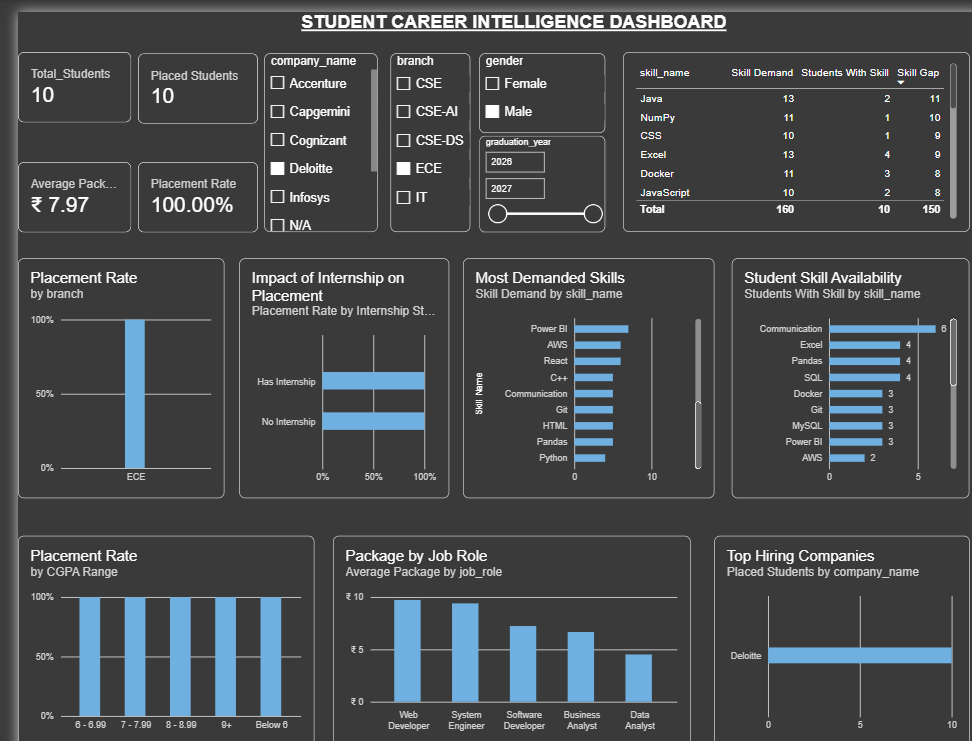

Layout of this report page (visuals, bound fields, positions):
{"tool":"powerbi","page":{"name":"Overview Dashboard","canvas":[1920,1080],"ordinal":0},"visuals":[{"type":"cardVisual","fields":{"Data":["career_intelligence students.Total_Students"]},"box":[0,54,151.1,94.4],"z":0},{"type":"cardVisual","fields":{"Data":["career_intelligence placements.Placed Students"]},"box":[160.2,55.1,160,94.4],"z":1000},{"type":"cardVisual","fields":{"Data":["career_intelligence placements.Placement Rate"]},"box":[160.2,200,160,94],"z":2000},{"type":"cardVisual","fields":{"Data":["career_intelligence placements.Average Package"]},"box":[0,200,151,94],"z":3000},{"type":"clusteredColumnChart","fields":{"Category":["career_intelligence students.branch"],"Y":["career_intelligence placements.Placement Rate"]},"box":[0,329,275,320],"z":4000},{"type":"clusteredColumnChart","fields":{"Category":["students.CGPA Range"],"Y":["placements.Placement Rate"]},"box":[0,699,394.9,280.6],"z":5000},{"type":"clusteredBarChart","title":"Impact of Internship on Placement","fields":{"Category":["students.Internship Status"],"Y":["placements.Placement Rate"]},"box":[295,329,280,320],"z":6000},{"type":"clusteredBarChart","title":"Most Demanded Skills","fields":{"Category":["skills.skill_name"],"Y":["company.Skill Demand"]},"box":[594,329,335,320],"z":6001},{"type":"clusteredBarChart","title":"Student Skill Availability","fields":{"Category":["skills.skill_name"],"Y":["skills.Students With Skill"]},"box":[952,329,317,320],"z":6002},{"type":"tableEx","fields":{"Values":["skills.skill_name","company.Skill Demand","skills.Students With Skill"]},"box":[807.1,54.1,462.2,239.8],"z":6003},{"type":"clusteredBarChart","title":"Top Hiring Companies","fields":{"Category":["placements.company_name"],"Y":["placements.Placed Students"]},"box":[928.6,699,340.8,280.6],"z":6004},{"type":"clusteredColumnChart","title":"Package by Job Role","fields":{"Category":["placements.job_role"],"Y":["placements.Average Package"]},"box":[420.4,699,476.5,280.6],"z":6005},{"type":"slicer","fields":{"Values":["students.branch"]},"box":[495.9,55.1,106.1,238.8],"z":6006},{"type":"slicer","fields":{"Values":["students.gender"]},"box":[614.3,55.1,168.4,106.1],"z":6007},{"type":"slicer","fields":{"Values":["students.graduation_year"]},"box":[614.3,165.3,168.4,128.6],"z":6008},{"type":"slicer","fields":{"Values":["placements.company_name"]},"box":[327.6,55.1,151,238.8],"z":6009},{"type":"textbox","box":[151,254,160,150],"z":6010},{"type":"textbox","box":[311,254,167,150],"z":6011},{"type":"textbox","box":[874,40,280,185],"z":6014},{"type":"textbox","box":[251,0,819,33],"z":6015}]}

Visuals, with their boxes on the page's 1920x1080 design canvas (x1, y1, x2, y2). These are canvas units, not pixel positions in the 972x741 screenshot, which may show the page scaled, cropped or inside an application window:
cardVisual - career_intelligence students.Total_Students: (x1=0, y1=54, x2=151, y2=148)
cardVisual - career_intelligence placements.Placed Students: (x1=160, y1=55, x2=320, y2=150)
cardVisual - career_intelligence placements.Placement Rate: (x1=160, y1=200, x2=320, y2=294)
cardVisual - career_intelligence placements.Average Package: (x1=0, y1=200, x2=151, y2=294)
clusteredColumnChart - career_intelligence students.branch x career_intelligence placements.Placement Rate: (x1=0, y1=329, x2=275, y2=649)
clusteredColumnChart - students.CGPA Range x placements.Placement Rate: (x1=0, y1=699, x2=395, y2=980)
"Impact of Internship on Placement" clusteredBarChart: (x1=295, y1=329, x2=575, y2=649)
"Most Demanded Skills" clusteredBarChart: (x1=594, y1=329, x2=929, y2=649)
"Student Skill Availability" clusteredBarChart: (x1=952, y1=329, x2=1269, y2=649)
tableEx - skills.skill_name x company.Skill Demand: (x1=807, y1=54, x2=1269, y2=294)
"Top Hiring Companies" clusteredBarChart: (x1=929, y1=699, x2=1269, y2=980)
"Package by Job Role" clusteredColumnChart: (x1=420, y1=699, x2=897, y2=980)
slicer - students.branch: (x1=496, y1=55, x2=602, y2=294)
slicer - students.gender: (x1=614, y1=55, x2=783, y2=161)
slicer - students.graduation_year: (x1=614, y1=165, x2=783, y2=294)
slicer - placements.company_name: (x1=328, y1=55, x2=479, y2=294)
textbox: (x1=151, y1=254, x2=311, y2=404)
textbox: (x1=311, y1=254, x2=478, y2=404)
textbox: (x1=874, y1=40, x2=1154, y2=225)
textbox: (x1=251, y1=0, x2=1070, y2=33)
